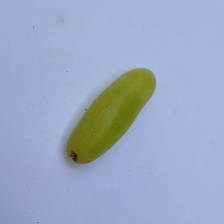grapes: (32, 23, 178, 158)
